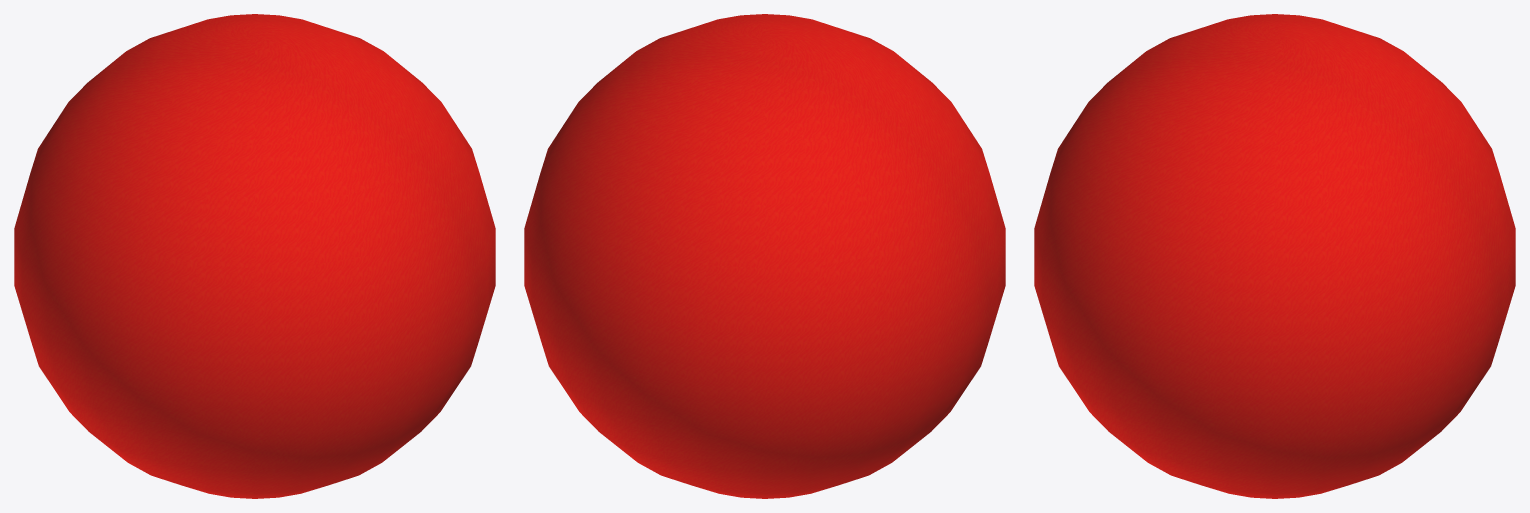
The picture shows the model from 3 angles, left to right: view 1: azimuth 30°, elevation 25°; view 2: azimuth 150°, elevation 25°; view 3: azimuth 270°, elevation 25°; orthographic projection.
Parts seen in each view (by area): view 1: SketchUp; view 2: SketchUp; view 3: SketchUp.
Boxes of the visible parts, x1,y1,x2,y2 form: SketchUp: (14, 14, 495, 498); SketchUp: (524, 14, 1005, 498); SketchUp: (1034, 14, 1515, 498).
Bounding box in the file's own units: 611 × 611 × 611.
1 material, 1 textured.
